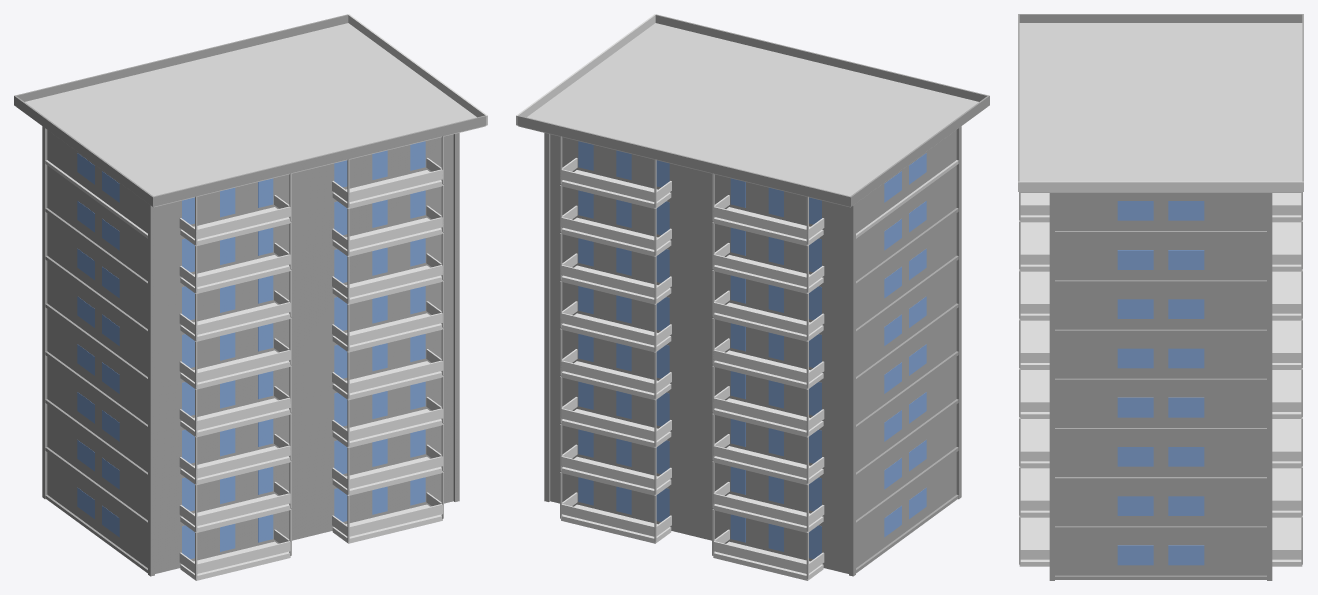
The model's file is apartment.glb.
3 views of the same model, side by side, from view 1: azimuth 30°, elevation 25°; view 2: azimuth 150°, elevation 25°; view 3: azimuth 270°, elevation 25° (orthographic). The views are drawn at different scales.
Visible parts, largest first — view 1: Building_Body, pCube341, pCube342, pCube343, pCube2, pCube1, pCube4, pCube344, pCube345, pCube323, pCube299, pCube203 (+37 smaller); view 2: Building_Body, pCube341, pCube343, pCube342, pCube4, pCube3, pCube2, pCube344, pCube345, pCube335, pCube311, pCube215 (+37 smaller); view 3: Building_Body, pCube341, pCube345, pCube344, pCube1, pCube3, pCube155, pCube167, pCube203, pCube215, pCube299, pCube311 (+34 smaller).
Part boxes in pixels (x1=…): Building_Body: x1=47, y1=130, x2=453, y2=573; pCube341: x1=21, y1=23, x2=485, y2=207; pCube342: x1=154, y1=115, x2=486, y2=206; pCube343: x1=16, y1=14, x2=348, y2=101; pCube2: x1=148, y1=203, x2=154, y2=576; pCube1: x1=453, y1=133, x2=459, y2=501; pCube4: x1=42, y1=126, x2=47, y2=499; pCube344: x1=14, y1=95, x2=154, y2=206; pCube345: x1=348, y1=14, x2=487, y2=125; pCube323: x1=332, y1=170, x2=442, y2=208; pCube299: x1=332, y1=217, x2=442, y2=256; pCube203: x1=332, y1=409, x2=442, y2=447; Building_Body: x1=550, y1=130, x2=956, y2=573; pCube341: x1=518, y1=23, x2=982, y2=207; pCube343: x1=517, y1=115, x2=849, y2=206; pCube342: x1=655, y1=14, x2=987, y2=101; pCube4: x1=849, y1=203, x2=855, y2=576; pCube3: x1=544, y1=133, x2=550, y2=501; pCube2: x1=956, y1=126, x2=961, y2=499; pCube344: x1=849, y1=95, x2=989, y2=206; pCube345: x1=516, y1=14, x2=655, y2=125; pCube335: x1=561, y1=170, x2=671, y2=208; pCube311: x1=561, y1=217, x2=671, y2=256; pCube215: x1=561, y1=409, x2=671, y2=447; Building_Body: x1=1055, y1=193, x2=1266, y2=575; pCube341: x1=1019, y1=23, x2=1302, y2=192; pCube345: x1=1018, y1=181, x2=1303, y2=191; pCube344: x1=1018, y1=14, x2=1303, y2=22; pCube1: x1=1049, y1=193, x2=1054, y2=580; pCube3: x1=1267, y1=193, x2=1272, y2=580; pCube155: x1=1019, y1=517, x2=1049, y2=566; pCube167: x1=1272, y1=517, x2=1302, y2=566; pCube203: x1=1019, y1=419, x2=1049, y2=468; pCube215: x1=1272, y1=419, x2=1302, y2=468; pCube299: x1=1019, y1=222, x2=1049, y2=271; pCube311: x1=1272, y1=222, x2=1302, y2=271.
Bounding box in the file's own units: 8.8 × 9.92 × 6.32.
